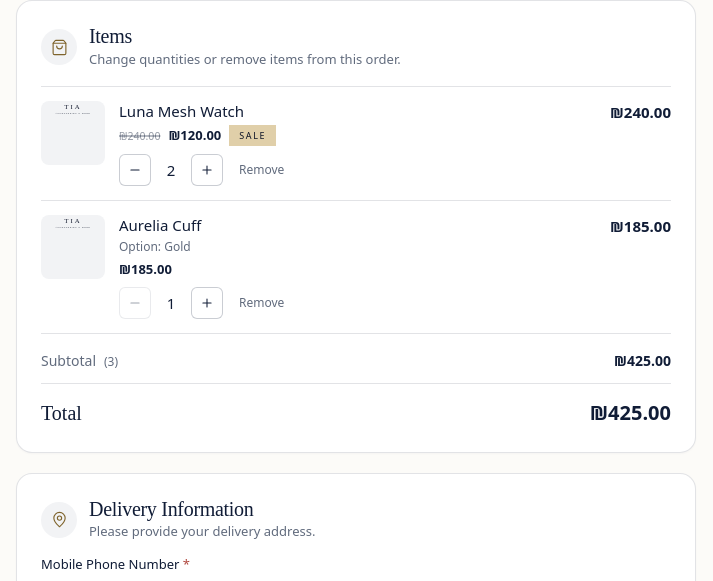
Test: OrderEditForm › removes a line, and refuses to remove the last one with an explanation
Click the button "Remove" below "Gold".
click(262, 303)  # box [239,294,284,312]
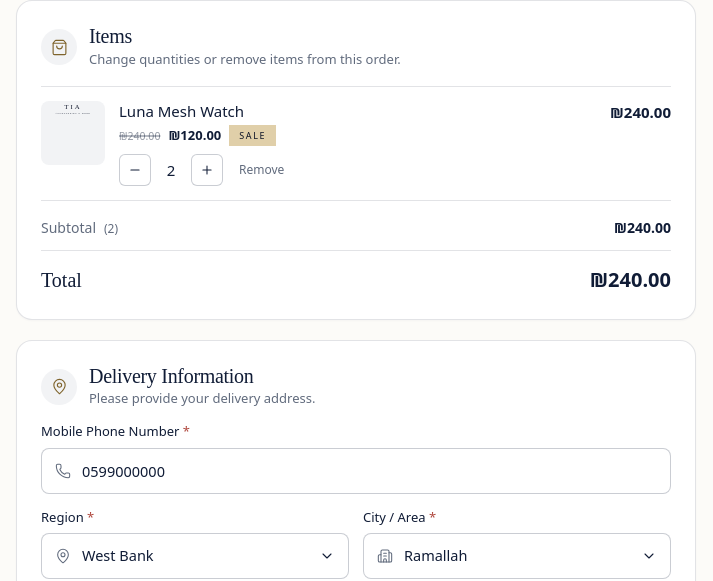
Now the number of list items with test id "edit-line" is 1, box [41,86,671,200]
Click the button "Remove".
click(262, 170)  # box [239,161,284,179]
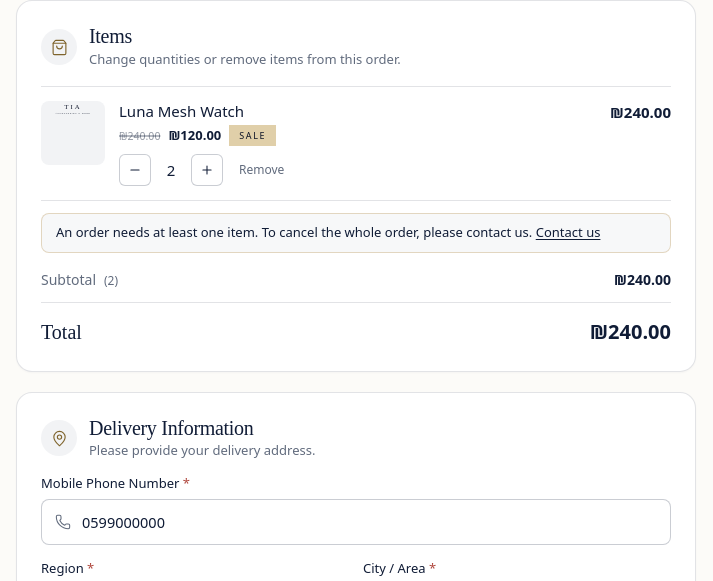
Now the number of list items with test id "edit-line" is 1, box [41,86,671,200]
Now the message with test id "last-item-notice" shows "An order needs at least one item. To cancel the whole order, please contact us.", box [56,223,532,241]
